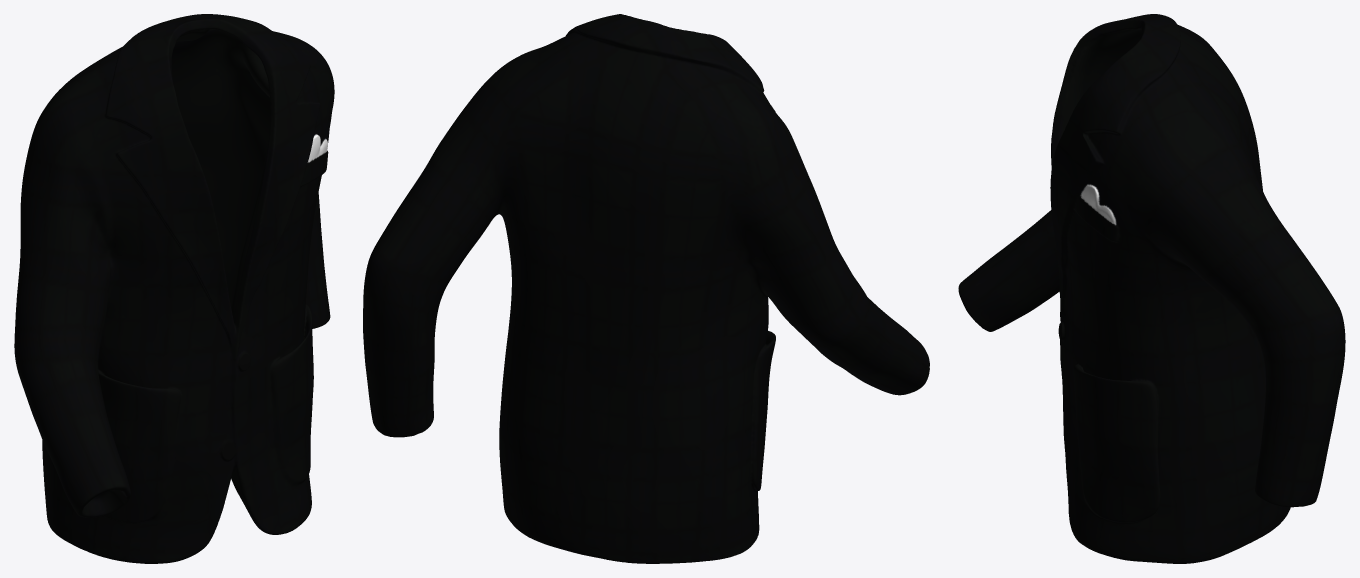
File: Male_Suit_PlaidGreen.glb
3 renders of one model, left to right at view 1: azimuth 30°, elevation 25°; view 2: azimuth 150°, elevation 25°; view 3: azimuth 270°, elevation 25°, orthographic. The views are drawn at different scales.
Visible parts, largest first — view 1: IVB SUIT - PLAIDGREEN 03; view 2: IVB SUIT - PLAIDGREEN 03; view 3: IVB SUIT - PLAIDGREEN 03.
Boxes of the visible parts, x1=… form: IVB SUIT - PLAIDGREEN 03: x1=14, y1=14, x2=334, y2=563; IVB SUIT - PLAIDGREEN 03: x1=363, y1=14, x2=929, y2=563; IVB SUIT - PLAIDGREEN 03: x1=958, y1=14, x2=1345, y2=563.
Bounding box in the file's own units: 0.9891 × 1.17 × 0.8404.
1 material, 1 textured.
